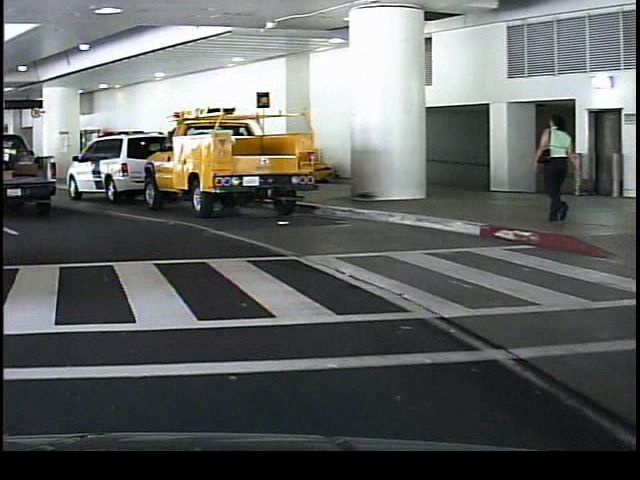person: (526, 112, 577, 228)
